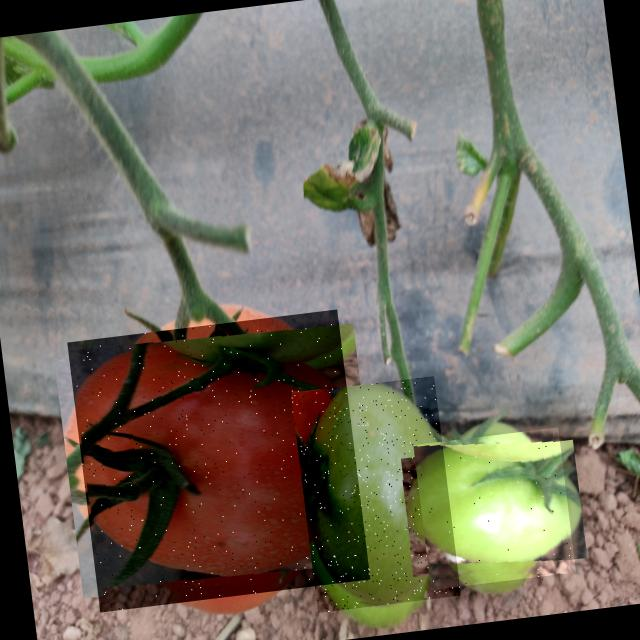Ripe Tomato: (67, 309, 370, 612)
Unripe Tomato: (290, 376, 460, 612), (412, 426, 576, 590)
